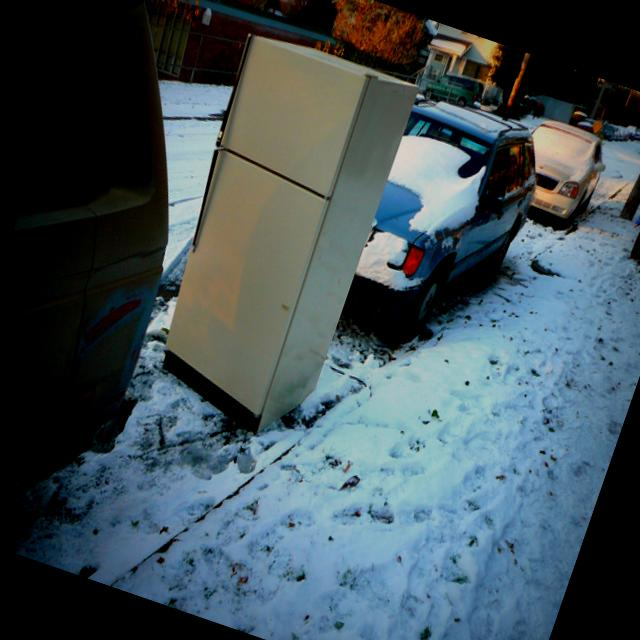Vehicle: (0, 0, 286, 575), (332, 74, 564, 382), (506, 111, 616, 229), (432, 64, 486, 104), (606, 122, 628, 142), (575, 115, 595, 133), (622, 124, 638, 141), (602, 125, 616, 142), (617, 126, 631, 142), (632, 128, 640, 141), (635, 126, 640, 141)
